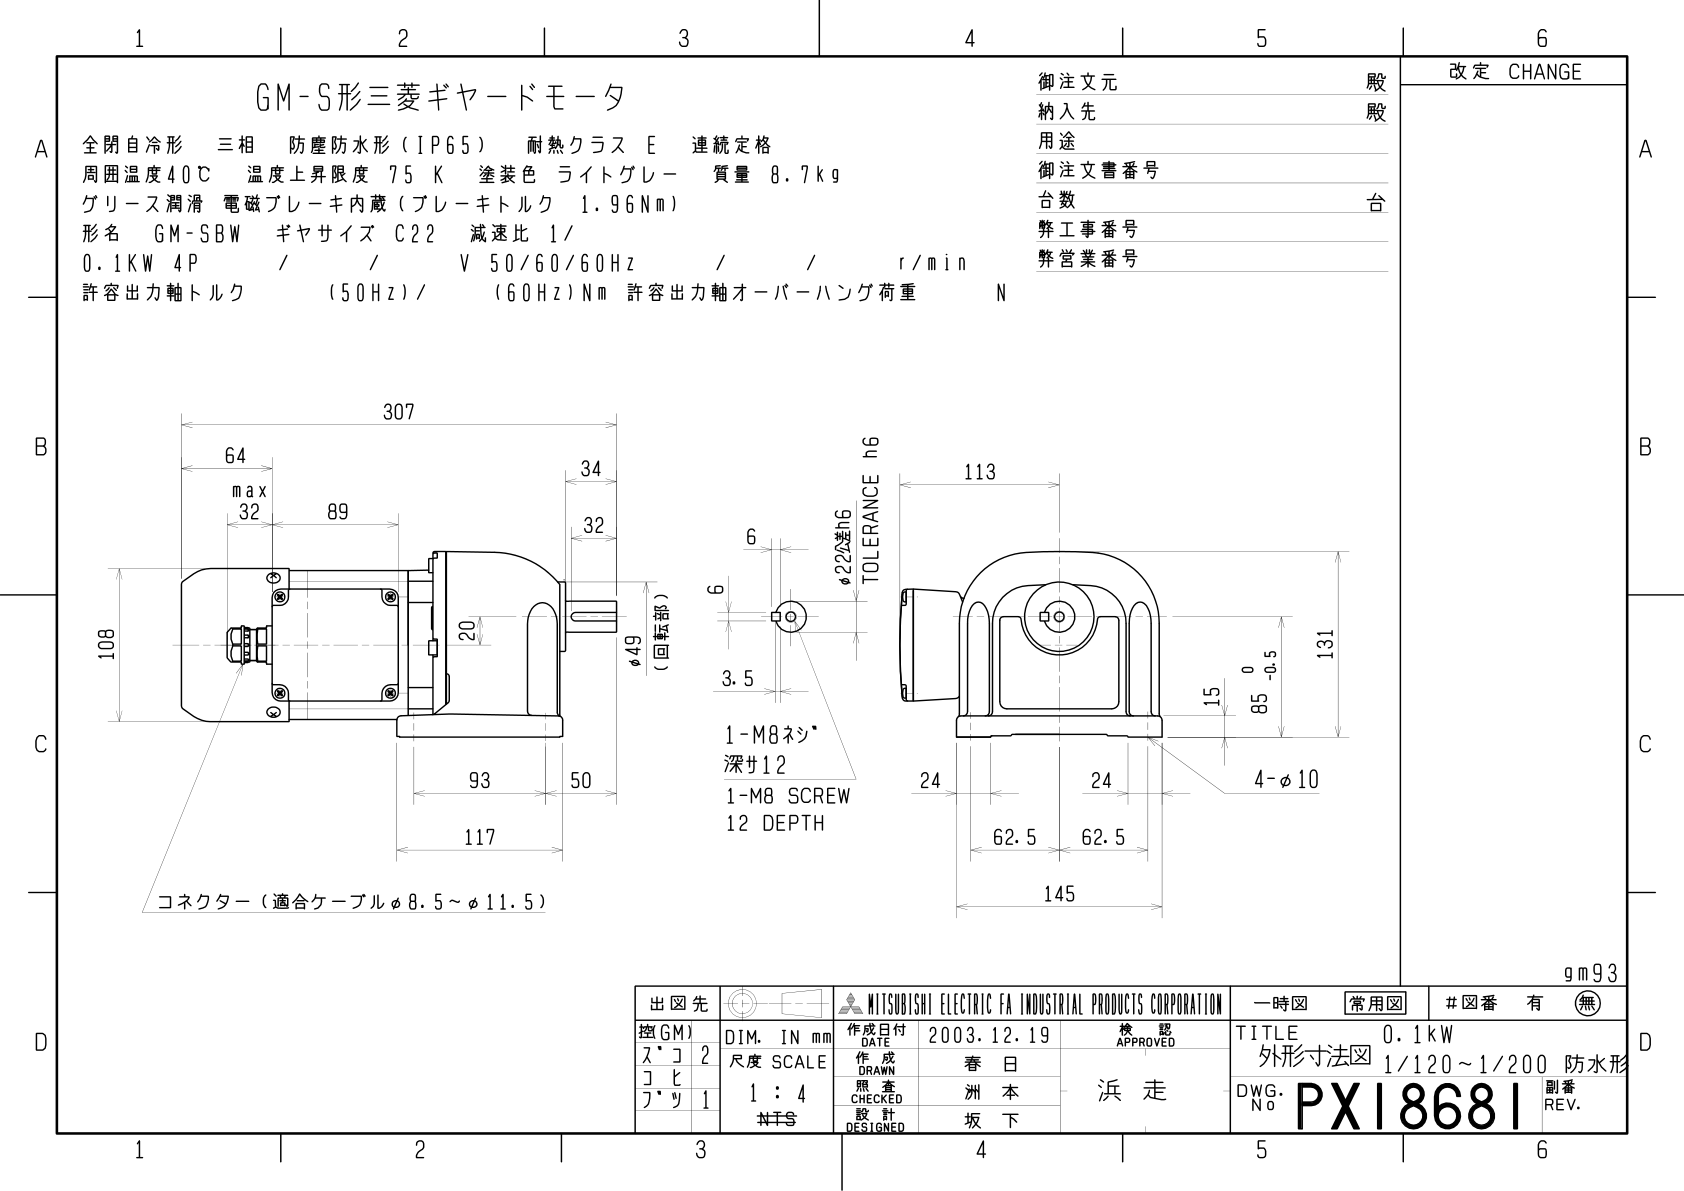GM_S_IP65＿三相_脚: (58, 318, 1379, 947)
